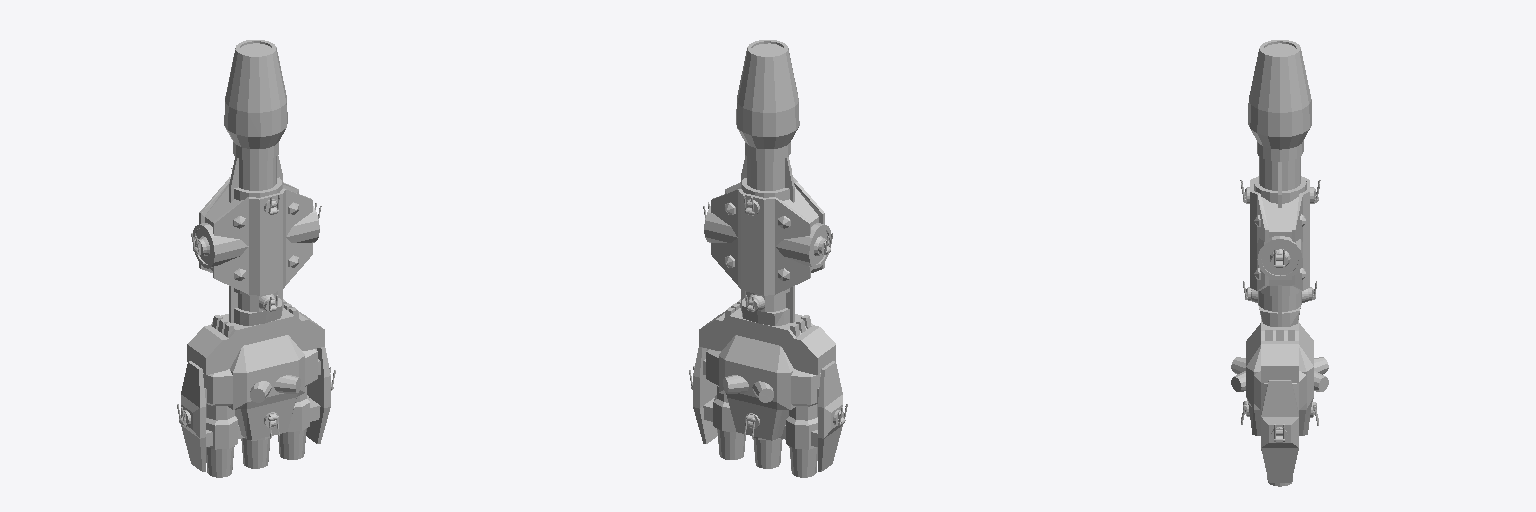
The model's file is Cañonero Coleriano MK II.obj.
3 views of the same model, side by side, from view 1: azimuth 30°, elevation 25°; view 2: azimuth 150°, elevation 25°; view 3: azimuth 270°, elevation 25° (orthographic).
Visible parts, largest first — view 1: Object; view 2: Object; view 3: Object.
Boxes of the visible parts, x1=… form: Object: x1=177, y1=40, x2=335, y2=477; Object: x1=689, y1=40, x2=847, y2=477; Object: x1=1231, y1=40, x2=1328, y2=486.
Bounding box in the file's own units: 13.14 × 33.77 × 7.22.